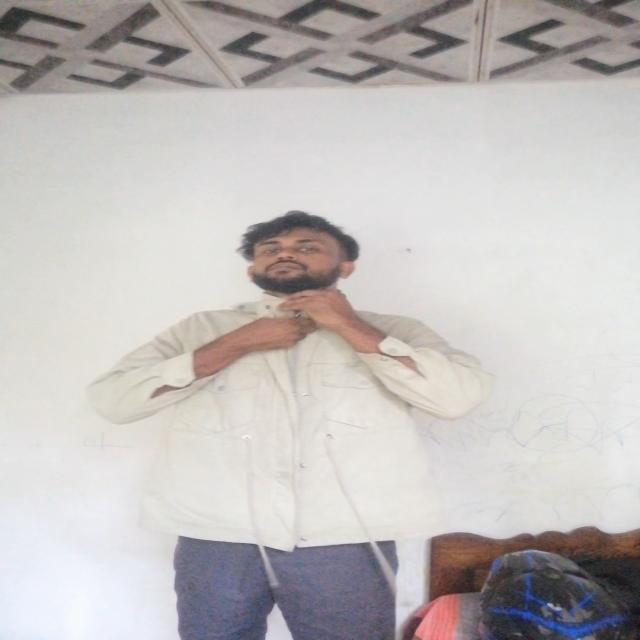Jacket_Wearer: (98, 283, 493, 526)
Person: (85, 205, 502, 640)
